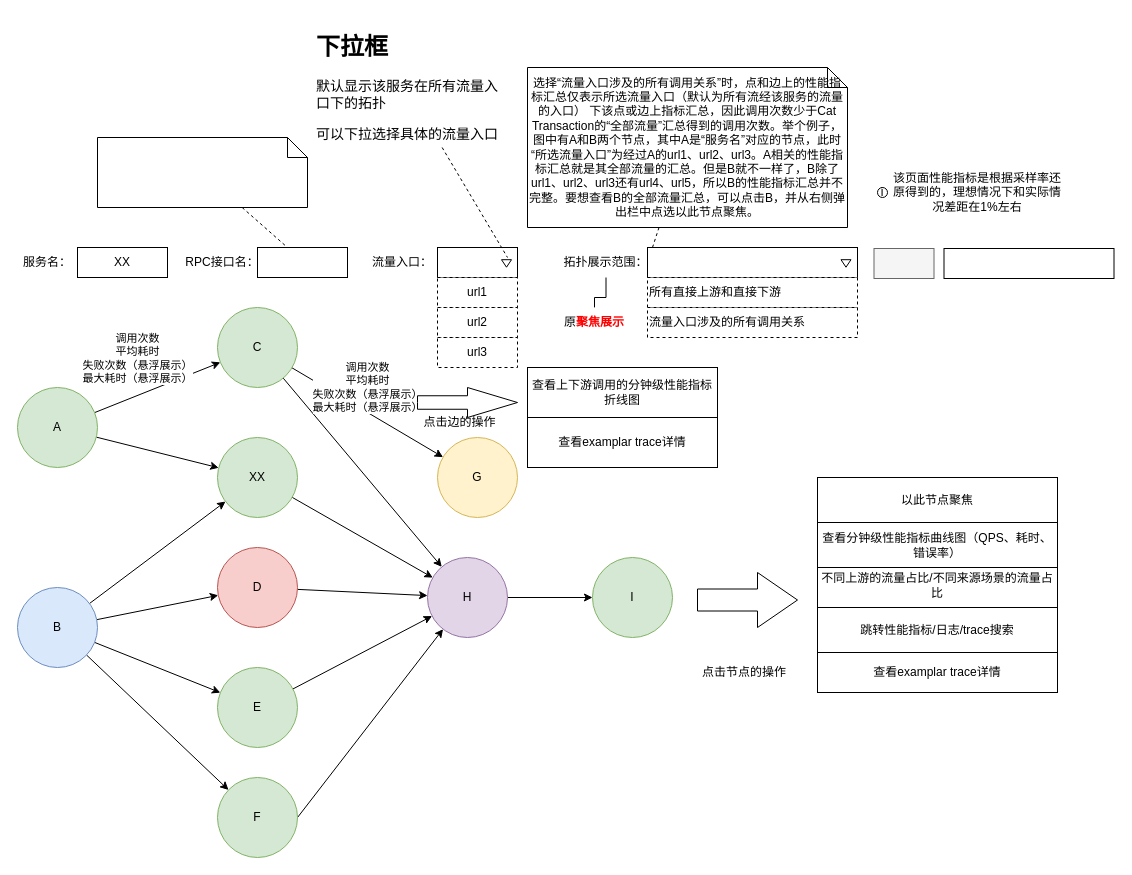
Some shapes in this 1132 by 875 pixel diagram are drawn without their labels. Each missing label, with the centre of its shape:
"全部" belongs at point (477, 262).
"时间选择框" belongs at point (1028, 263).
"查看" belongs at point (903, 263).
"调用量前十的直接上游和直接下游" belongs at point (752, 262).
"默认为空，展示服务级别的拓扑" belongs at point (202, 172).
